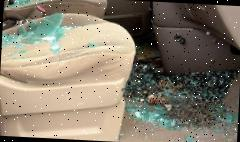glass: (129, 67, 236, 136), (2, 11, 66, 56), (5, 0, 56, 10)
